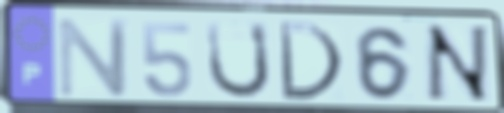5: (138, 20, 194, 99)
6: (352, 24, 415, 103)
D: (275, 19, 347, 104)
N: (55, 17, 132, 100), (421, 23, 494, 105)
U: (204, 19, 274, 101)
